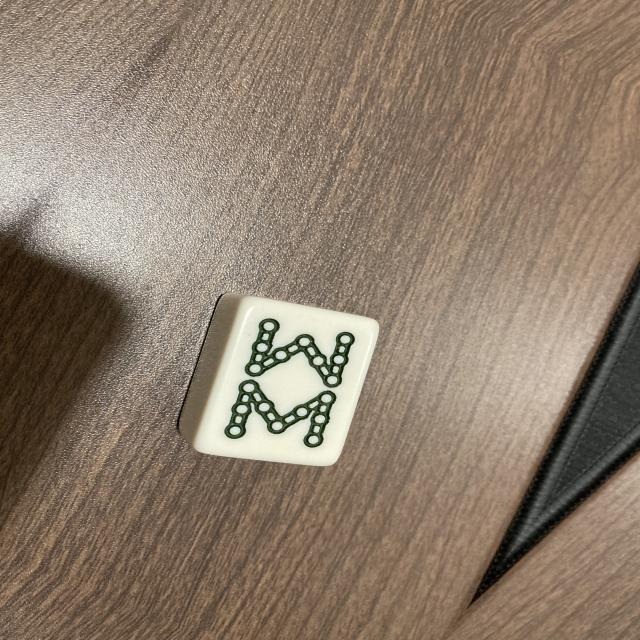s8: (197, 299, 378, 466)
